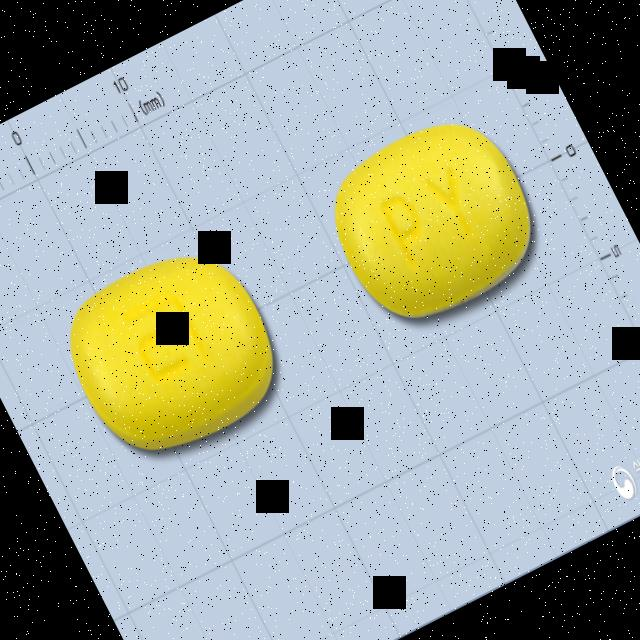Pilocin Tab: (45, 230, 298, 478), (311, 101, 558, 341)
